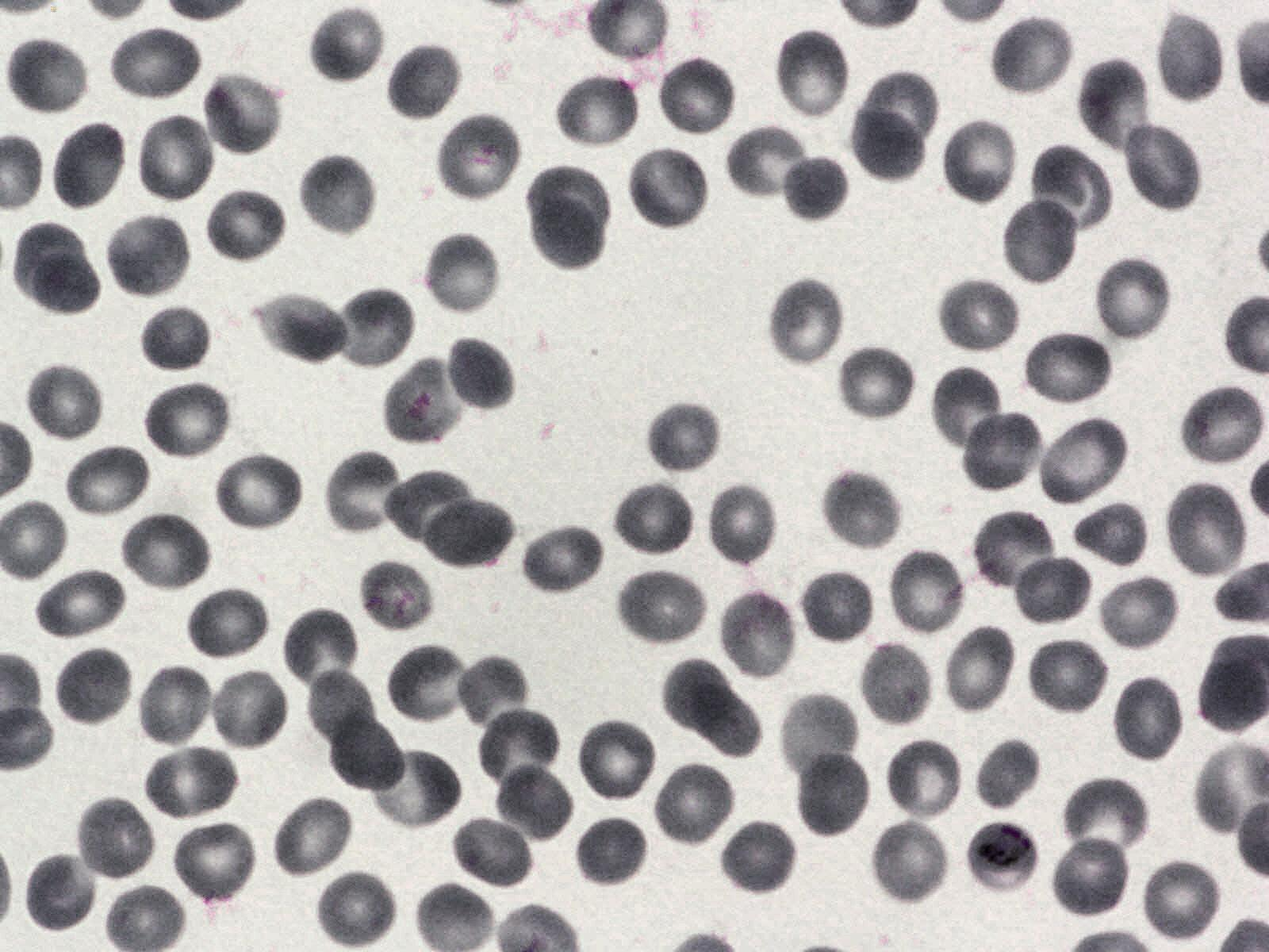Infected: (960, 821, 1039, 898)
Uninfected: (1024, 141, 1113, 241), (1036, 414, 1129, 509), (1075, 56, 1160, 158), (1163, 481, 1250, 580), (435, 109, 523, 205), (381, 351, 469, 447), (1118, 119, 1204, 215), (319, 700, 408, 791), (614, 566, 709, 651), (104, 212, 194, 301), (718, 587, 799, 685), (170, 819, 260, 907), (969, 508, 1058, 596), (1139, 856, 1226, 946), (213, 451, 305, 536), (1179, 383, 1268, 470), (121, 511, 213, 595), (817, 468, 905, 555), (625, 144, 711, 233), (777, 688, 859, 781), (145, 743, 239, 824), (792, 746, 872, 841), (73, 796, 159, 884), (652, 761, 737, 850), (144, 379, 234, 463), (136, 112, 218, 204), (765, 278, 846, 371), (34, 564, 128, 644), (282, 606, 362, 700), (109, 25, 204, 104), (257, 288, 352, 367), (329, 287, 416, 373), (989, 13, 1076, 99), (313, 866, 401, 951), (887, 547, 968, 639), (772, 29, 852, 122), (939, 623, 1018, 717), (201, 71, 285, 159), (372, 749, 462, 831), (941, 117, 1022, 208), (1000, 195, 1081, 286), (960, 409, 1045, 495), (870, 820, 952, 909), (1022, 330, 1114, 409), (50, 120, 128, 213), (1049, 832, 1132, 919), (1093, 255, 1174, 344), (271, 795, 355, 880), (576, 718, 659, 804), (65, 443, 153, 524), (297, 153, 379, 239), (554, 72, 640, 154), (422, 232, 503, 318), (884, 738, 965, 824), (1152, 12, 1226, 106), (1110, 676, 1187, 766), (54, 645, 135, 730), (6, 36, 91, 117), (936, 276, 1022, 356), (656, 56, 738, 139), (474, 704, 558, 785), (454, 654, 535, 738), (611, 479, 696, 559), (137, 663, 217, 748), (450, 811, 536, 890), (389, 467, 478, 543), (25, 362, 107, 444), (835, 344, 917, 426), (209, 667, 289, 751), (704, 482, 780, 570), (929, 365, 1004, 454), (523, 192, 604, 274), (205, 186, 288, 266), (384, 648, 468, 727), (185, 584, 270, 662), (519, 520, 605, 597), (717, 818, 799, 898), (1096, 573, 1179, 652), (25, 850, 102, 935), (859, 638, 932, 727), (385, 41, 464, 123), (309, 3, 388, 85), (1009, 551, 1092, 629), (796, 567, 876, 646), (324, 452, 401, 533), (356, 554, 437, 631), (1066, 780, 1150, 854), (644, 399, 723, 477), (302, 667, 378, 748), (773, 153, 852, 230), (1023, 634, 1104, 709), (426, 499, 516, 566), (10, 222, 86, 301), (573, 815, 650, 892), (726, 125, 809, 196), (136, 301, 213, 376), (414, 879, 493, 952), (443, 336, 517, 413), (530, 165, 608, 236), (863, 72, 936, 143), (497, 767, 565, 842), (688, 684, 758, 755), (851, 109, 923, 178), (1075, 504, 1150, 570), (658, 662, 729, 729), (976, 739, 1038, 814), (36, 248, 98, 313)
